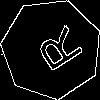R: (26, 24, 85, 79)
